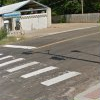crosswalk: (0, 55, 79, 86)
